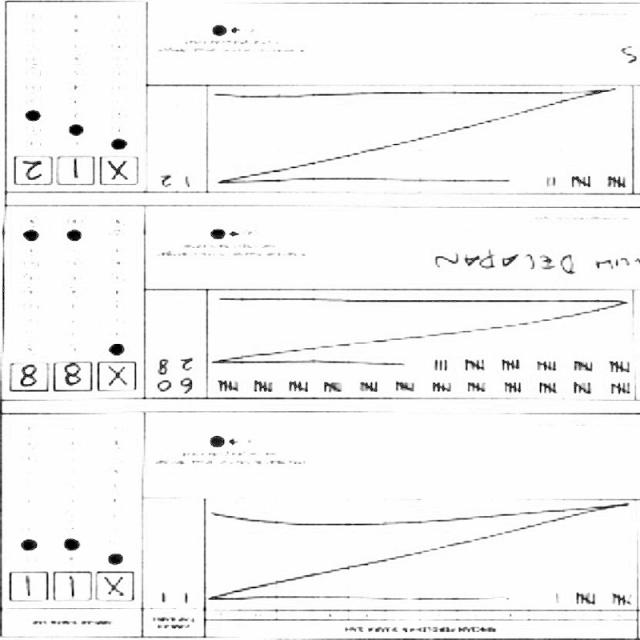Suara: (7, 359, 142, 397), (9, 152, 143, 190), (6, 568, 140, 606)
